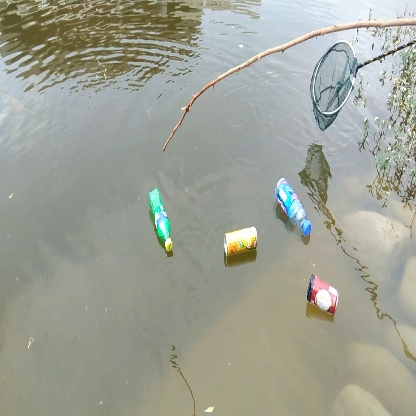bottle: (273, 175, 314, 241), (147, 186, 175, 253), (305, 269, 341, 320), (221, 224, 261, 260)
